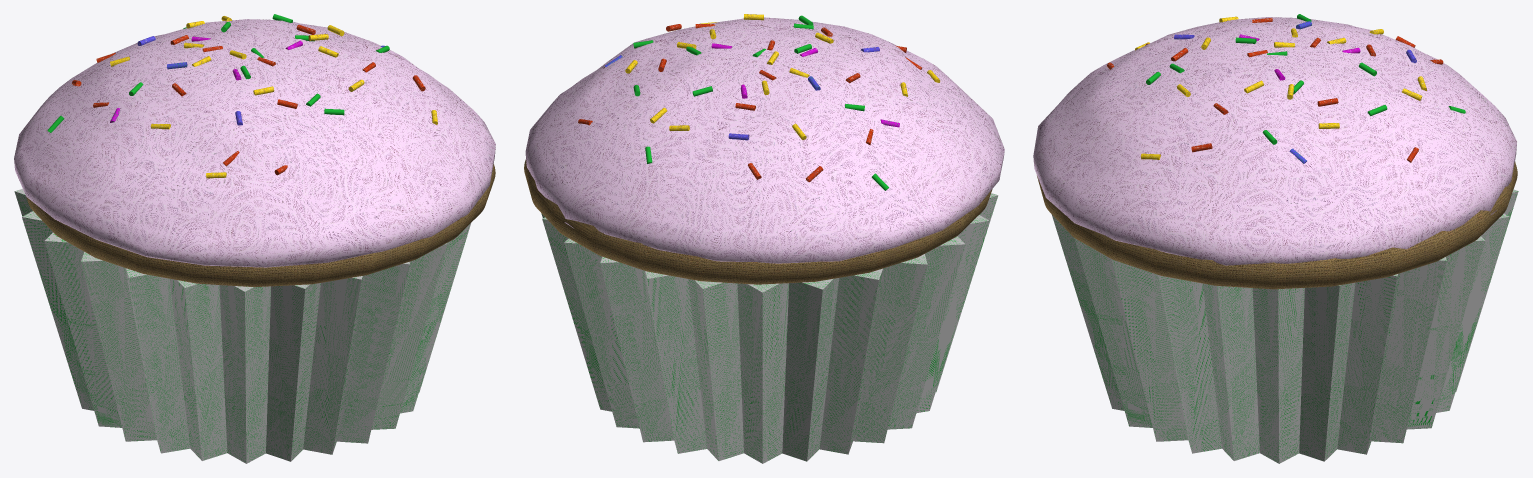
File: Sprinkled_cupcake.dae
The picture shows the model from 3 angles, left to right: view 1: azimuth 30°, elevation 25°; view 2: azimuth 150°, elevation 25°; view 3: azimuth 270°, elevation 25°; orthographic projection.
Parts seen in each view (by area): view 1: group_1, group_10, group_7; view 2: group_1, group_10, group_7; view 3: group_1, group_10, group_7.
Boxes of the visible parts, left/top/right/bottom form: group_1: left=14, top=19, right=495, bottom=267; group_10: left=14, top=188, right=470, bottom=463; group_7: left=26, top=164, right=495, bottom=287; group_1: left=525, top=17, right=1004, bottom=263; group_10: left=541, top=193, right=998, bottom=463; group_7: left=524, top=159, right=992, bottom=284; group_1: left=1033, top=17, right=1516, bottom=265; group_10: left=1051, top=189, right=1518, bottom=463; group_7: left=1037, top=161, right=1517, bottom=289.
Size of the model in its own units: 5.99 by 5.94 by 4.66.
